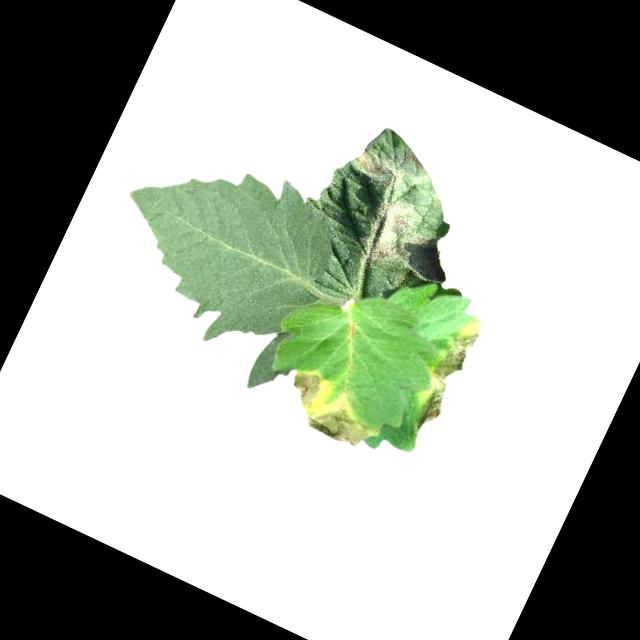Late_blight: (276, 363, 391, 456), (402, 314, 483, 441), (393, 223, 462, 288), (348, 144, 408, 194), (372, 193, 418, 236), (360, 229, 400, 272)
healthy: (85, 120, 354, 376)
